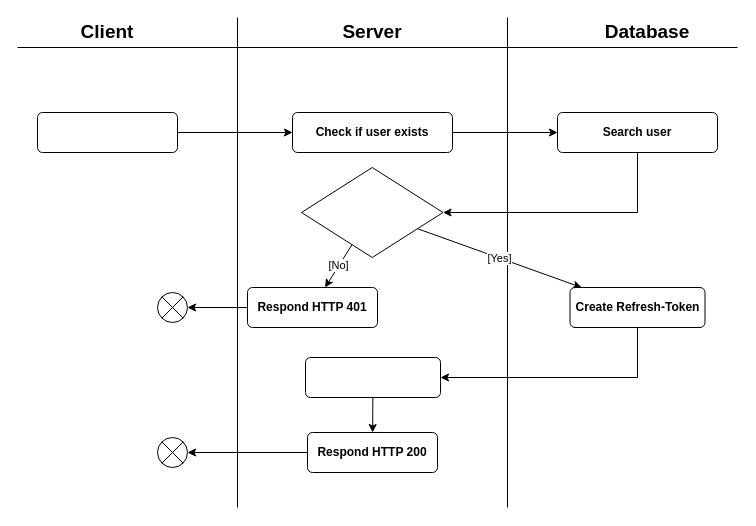
Some shapes in this 756 by 526 pixel diagram are drawn without their labels. Each missing label, with the centre of its shape:
"Create JWT Sign JWT" goes at (372,377).
"POST /auth/login" goes at (107,132).
"User exists? Credentials valid?" goes at (371,212).
